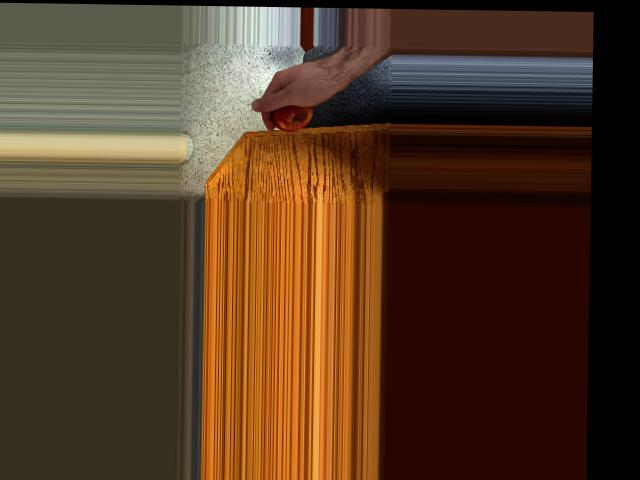apple: (268, 96, 314, 133)
